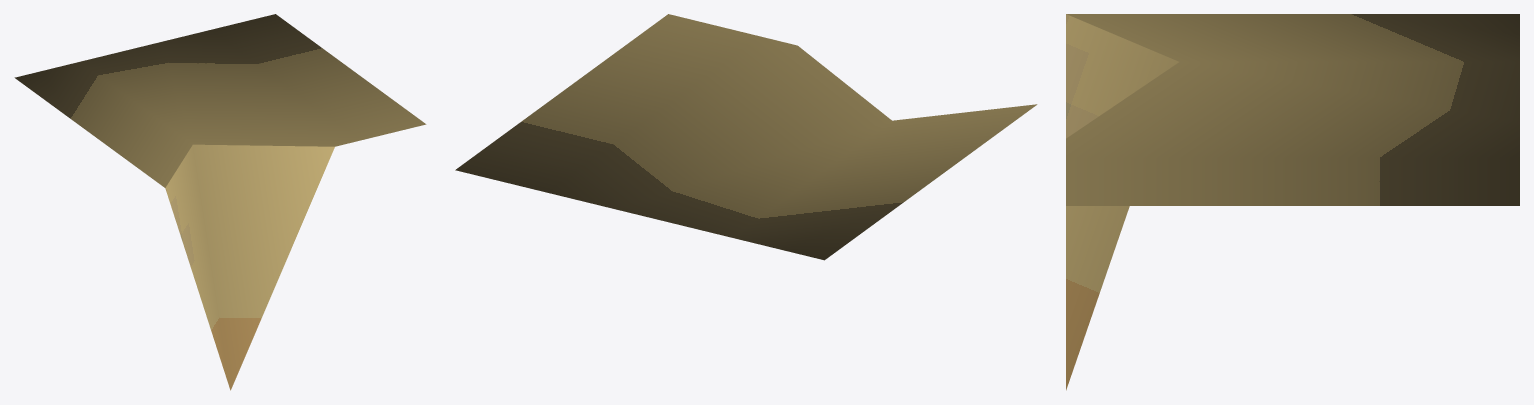
3 renders of one model, left to right at view 1: azimuth 30°, elevation 25°; view 2: azimuth 150°, elevation 25°; view 3: azimuth 270°, elevation 25°, orthographic. The views are drawn at different scales.
Size of the model in its own units: 1 by 0.7998 by 1.
2 materials, 2 textured.
